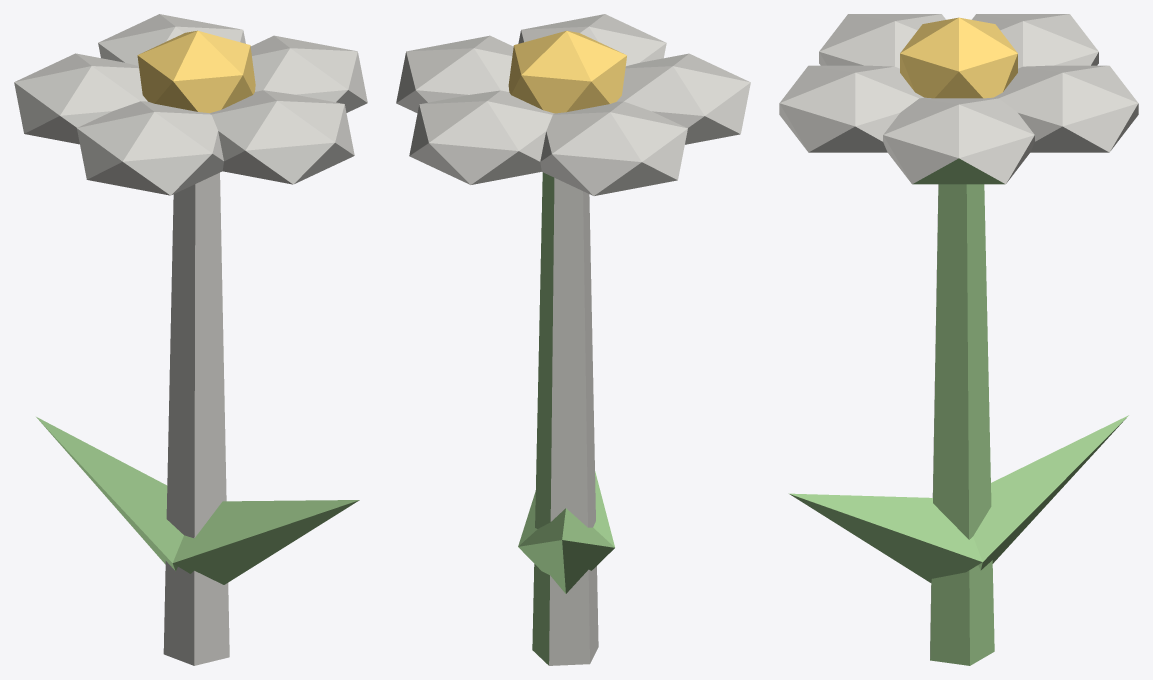
Rendered from FlowerWhite.fbx.
3 renders of one model, left to right at view 1: azimuth 30°, elevation 25°; view 2: azimuth 150°, elevation 25°; view 3: azimuth 270°, elevation 25°, orthographic. The views are drawn at different scales.
Parts seen in each view (by area): view 1: FlowerWhite; view 2: FlowerWhite; view 3: FlowerWhite.
Boxes of the visible parts, box(x1,y1,x2,y2) form: FlowerWhite: box(14, 14, 367, 665); FlowerWhite: box(396, 14, 750, 665); FlowerWhite: box(779, 14, 1138, 665).
Size of the model in its own units: 0.18 by 0.353 by 0.1812.
